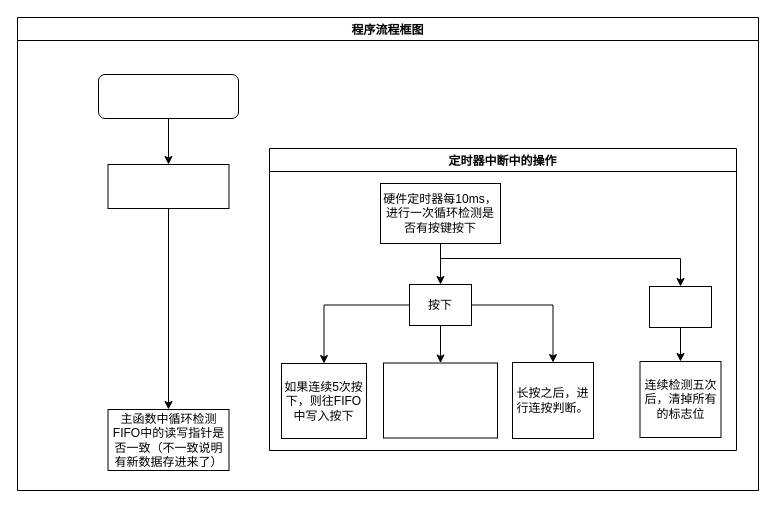
The diagram is 776 pixels wide and 508 high, and some of its shapes have lost their labels. The box of each missing label's shape, as (x1, y1, x2, y2) in pixels:
上电启动 startup_stm32f429xx.s: (98, 74, 238, 118)
初始化定时器、 初始化按键、 初始化变量。: (107, 164, 229, 208)
如果按下的时间超过longtime时间，则向FIFO中给传递长按: (382, 362, 498, 438)
未按下: (648, 286, 712, 328)
